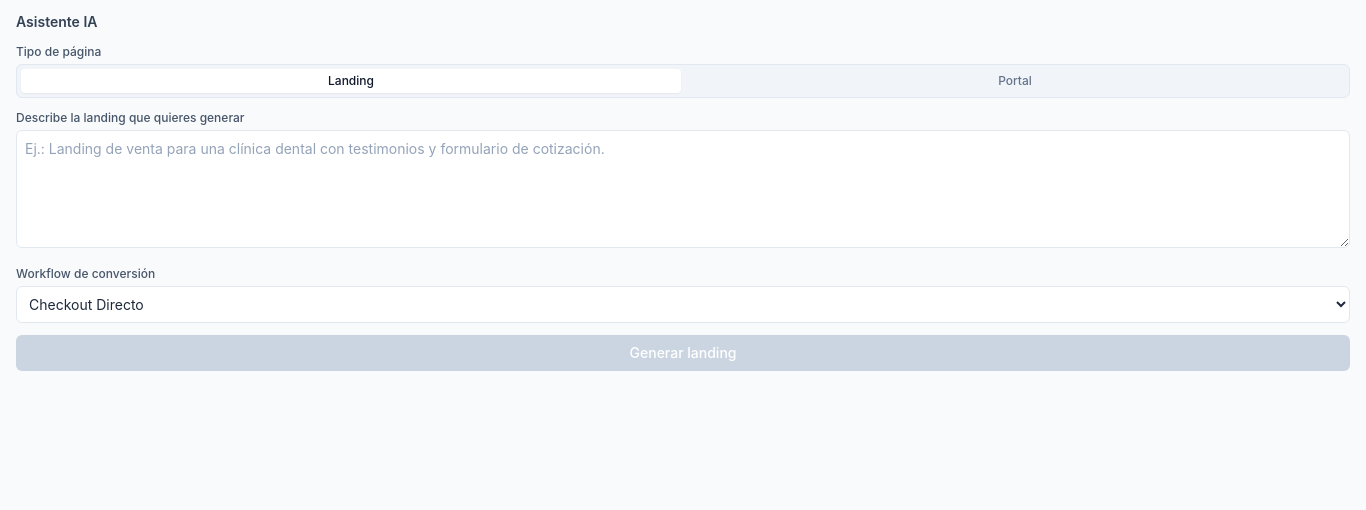
Test: AIPanel › genera una landing y muestra el resumen del resultado
Type "Landing para una clínica dental" into the text box labelled "Describe la landing que quieres generar" at (683, 189), box [16,130,1350,248]
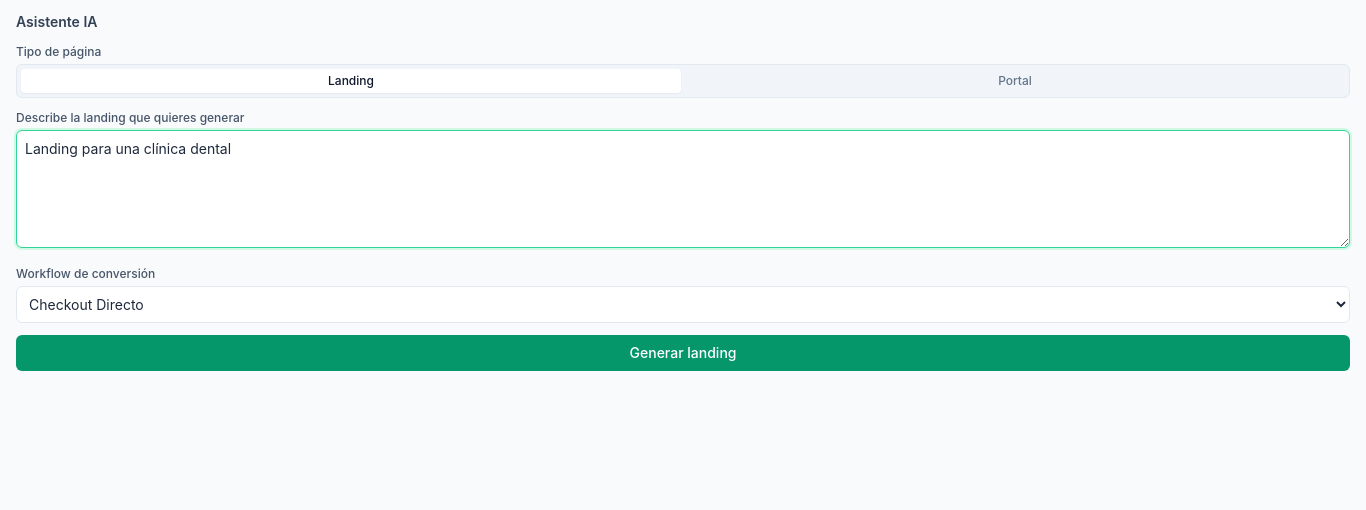
Click the button "Generar landing" at (683, 353), box [16,335,1350,371]
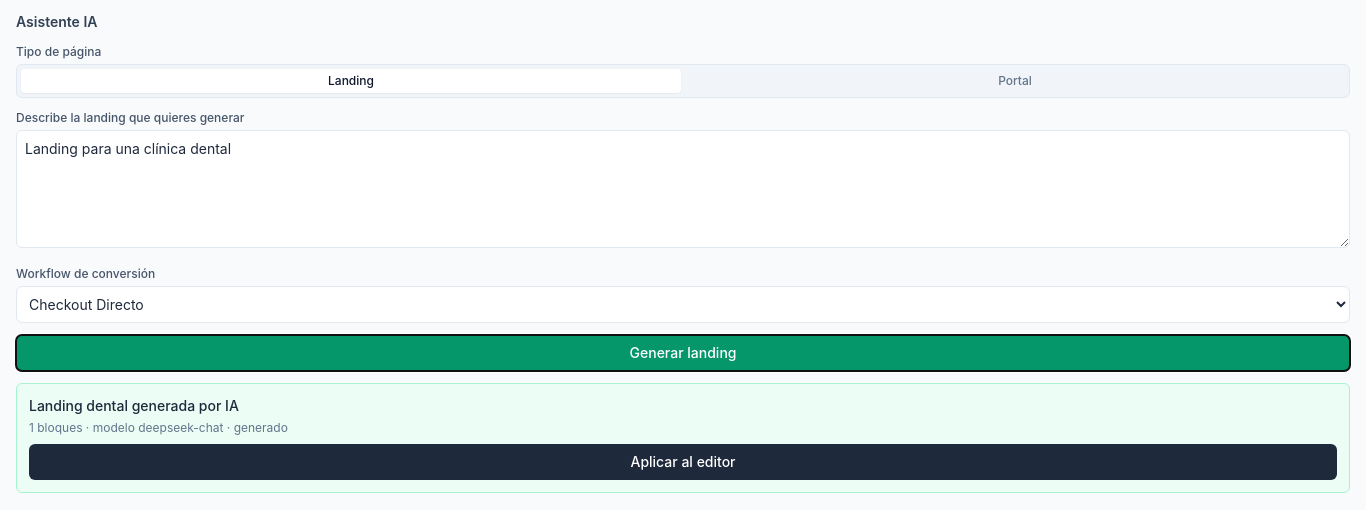
Expected: the text "Landing dental generada por IA" is shown, [29,397,239,414]
Expected: the text "1 bloques · modelo deepseek-chat · generado" is shown, [29,420,288,435]
Expected: the button "Aplicar al editor" is shown, [29,444,1337,480]
